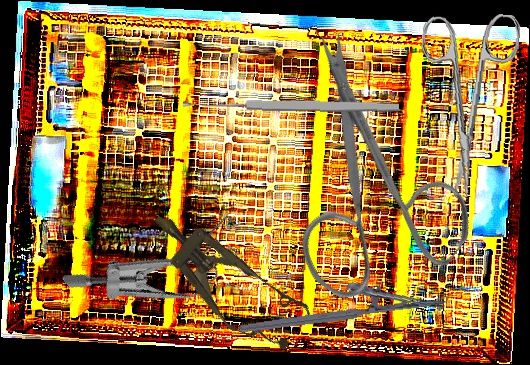Iris Scissors: (203, 26, 521, 338), (408, 7, 522, 202)
Needle Holder: (235, 270, 447, 335)
Speculum: (60, 165, 261, 358), (133, 191, 318, 365)
Surgical Spoon: (182, 97, 400, 114)
